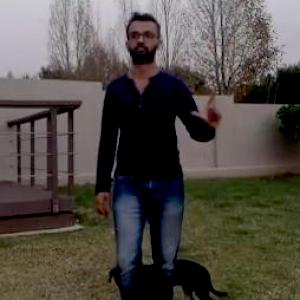land_hand: (188, 83, 227, 131)
